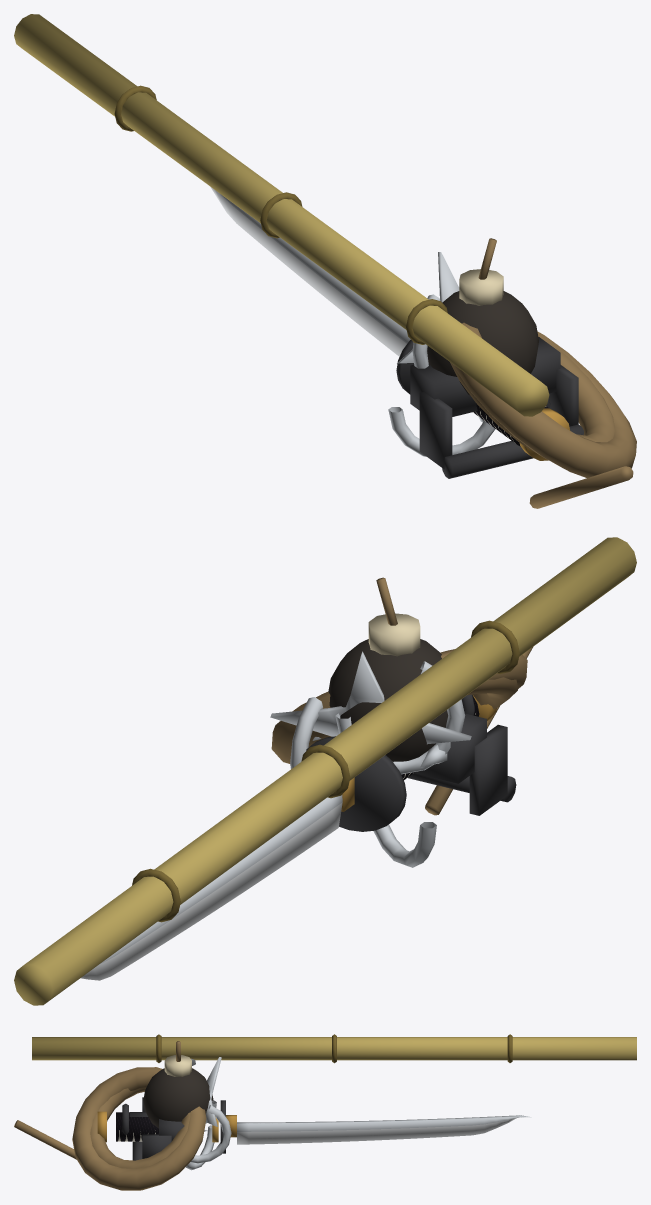
File: fegyverek.glb
The picture shows the model from 3 angles, top to bottom: view 1: azimuth 30°, elevation 25°; view 2: azimuth 150°, elevation 25°; view 3: azimuth 270°, elevation 25°; orthographic projection. The views are drawn at different scales.
Visible parts, largest first — view 1: fukiya, kampo_bal, tekko, fust, tanto, kampo, shuriken; view 2: fukiya, tanto, fust, tekko, kampo, shuriken, kampo_bal; view 3: fukiya, kampo_bal, tanto, fust, kampo, tekko, shuriken.
Boxes of the visible parts, x1,y1,x2,y2 form: fukiya: [14, 14, 549, 416]; kampo_bal: [450, 322, 636, 477]; tekko: [410, 337, 583, 478]; fust: [427, 238, 538, 395]; tanto: [210, 186, 570, 460]; kampo: [388, 294, 633, 508]; shuriken: [397, 252, 484, 421]; fukiya: [14, 537, 636, 1005]; tanto: [80, 694, 496, 980]; fust: [328, 577, 448, 761]; tekko: [312, 713, 516, 815]; kampo: [290, 647, 532, 867]; shuriken: [270, 651, 471, 744]; kampo_bal: [271, 649, 527, 763]; fukiya: [32, 1034, 636, 1063]; kampo_bal: [72, 1067, 206, 1190]; tanto: [97, 1100, 531, 1153]; fust: [143, 1041, 213, 1128]; kampo: [14, 1058, 231, 1170]; tekko: [132, 1097, 207, 1160]; shuriken: [206, 1057, 221, 1126].
Size of the model in its own units: 0.1472 by 0.1614 by 0.6385.
11 materials, 1 textured.
